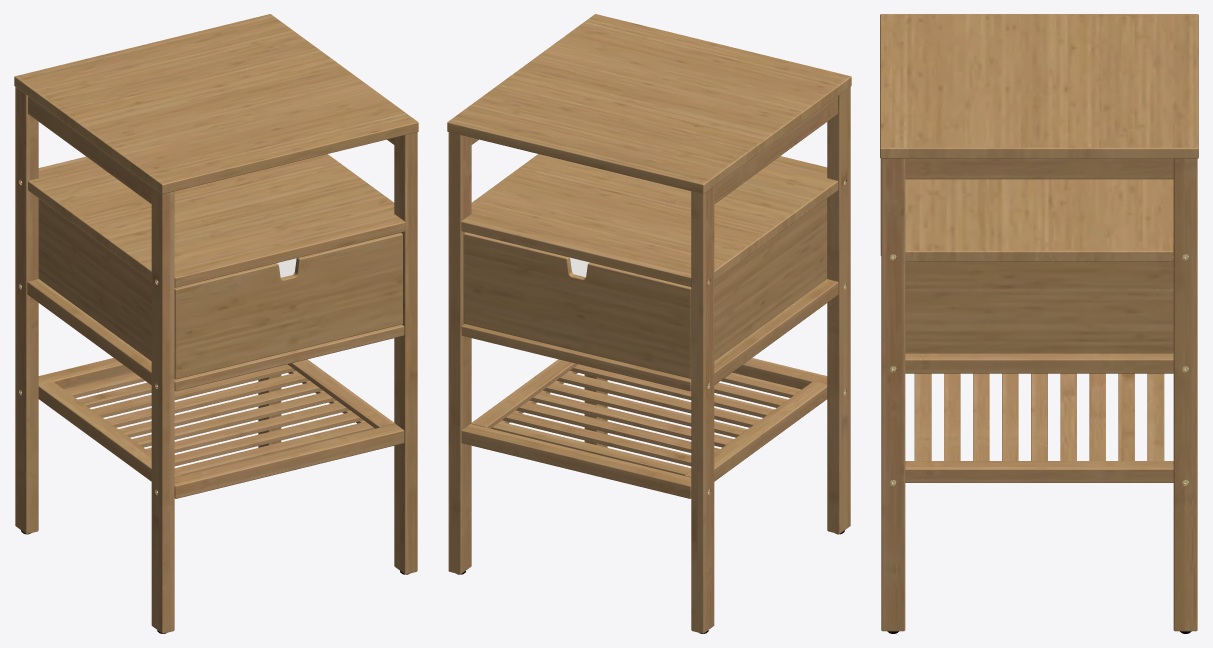
3 views of the same model, side by side, from view 1: azimuth 30°, elevation 25°; view 2: azimuth 150°, elevation 25°; view 3: azimuth 270°, elevation 25° (orthographic). The views are drawn at different scales.
Parts seen in each view (by area): view 1: 60447677-NORDKISA001; view 2: 60447677-NORDKISA001; view 3: 60447677-NORDKISA001.
Part boxes in pixels (x1,y1,x2,y2): 60447677-NORDKISA001: (14, 14, 418, 633); 60447677-NORDKISA001: (447, 14, 851, 633); 60447677-NORDKISA001: (880, 14, 1198, 633).
Bounding box in the file's own units: 0.4 × 0.675 × 0.4.
1 material, 1 textured.
